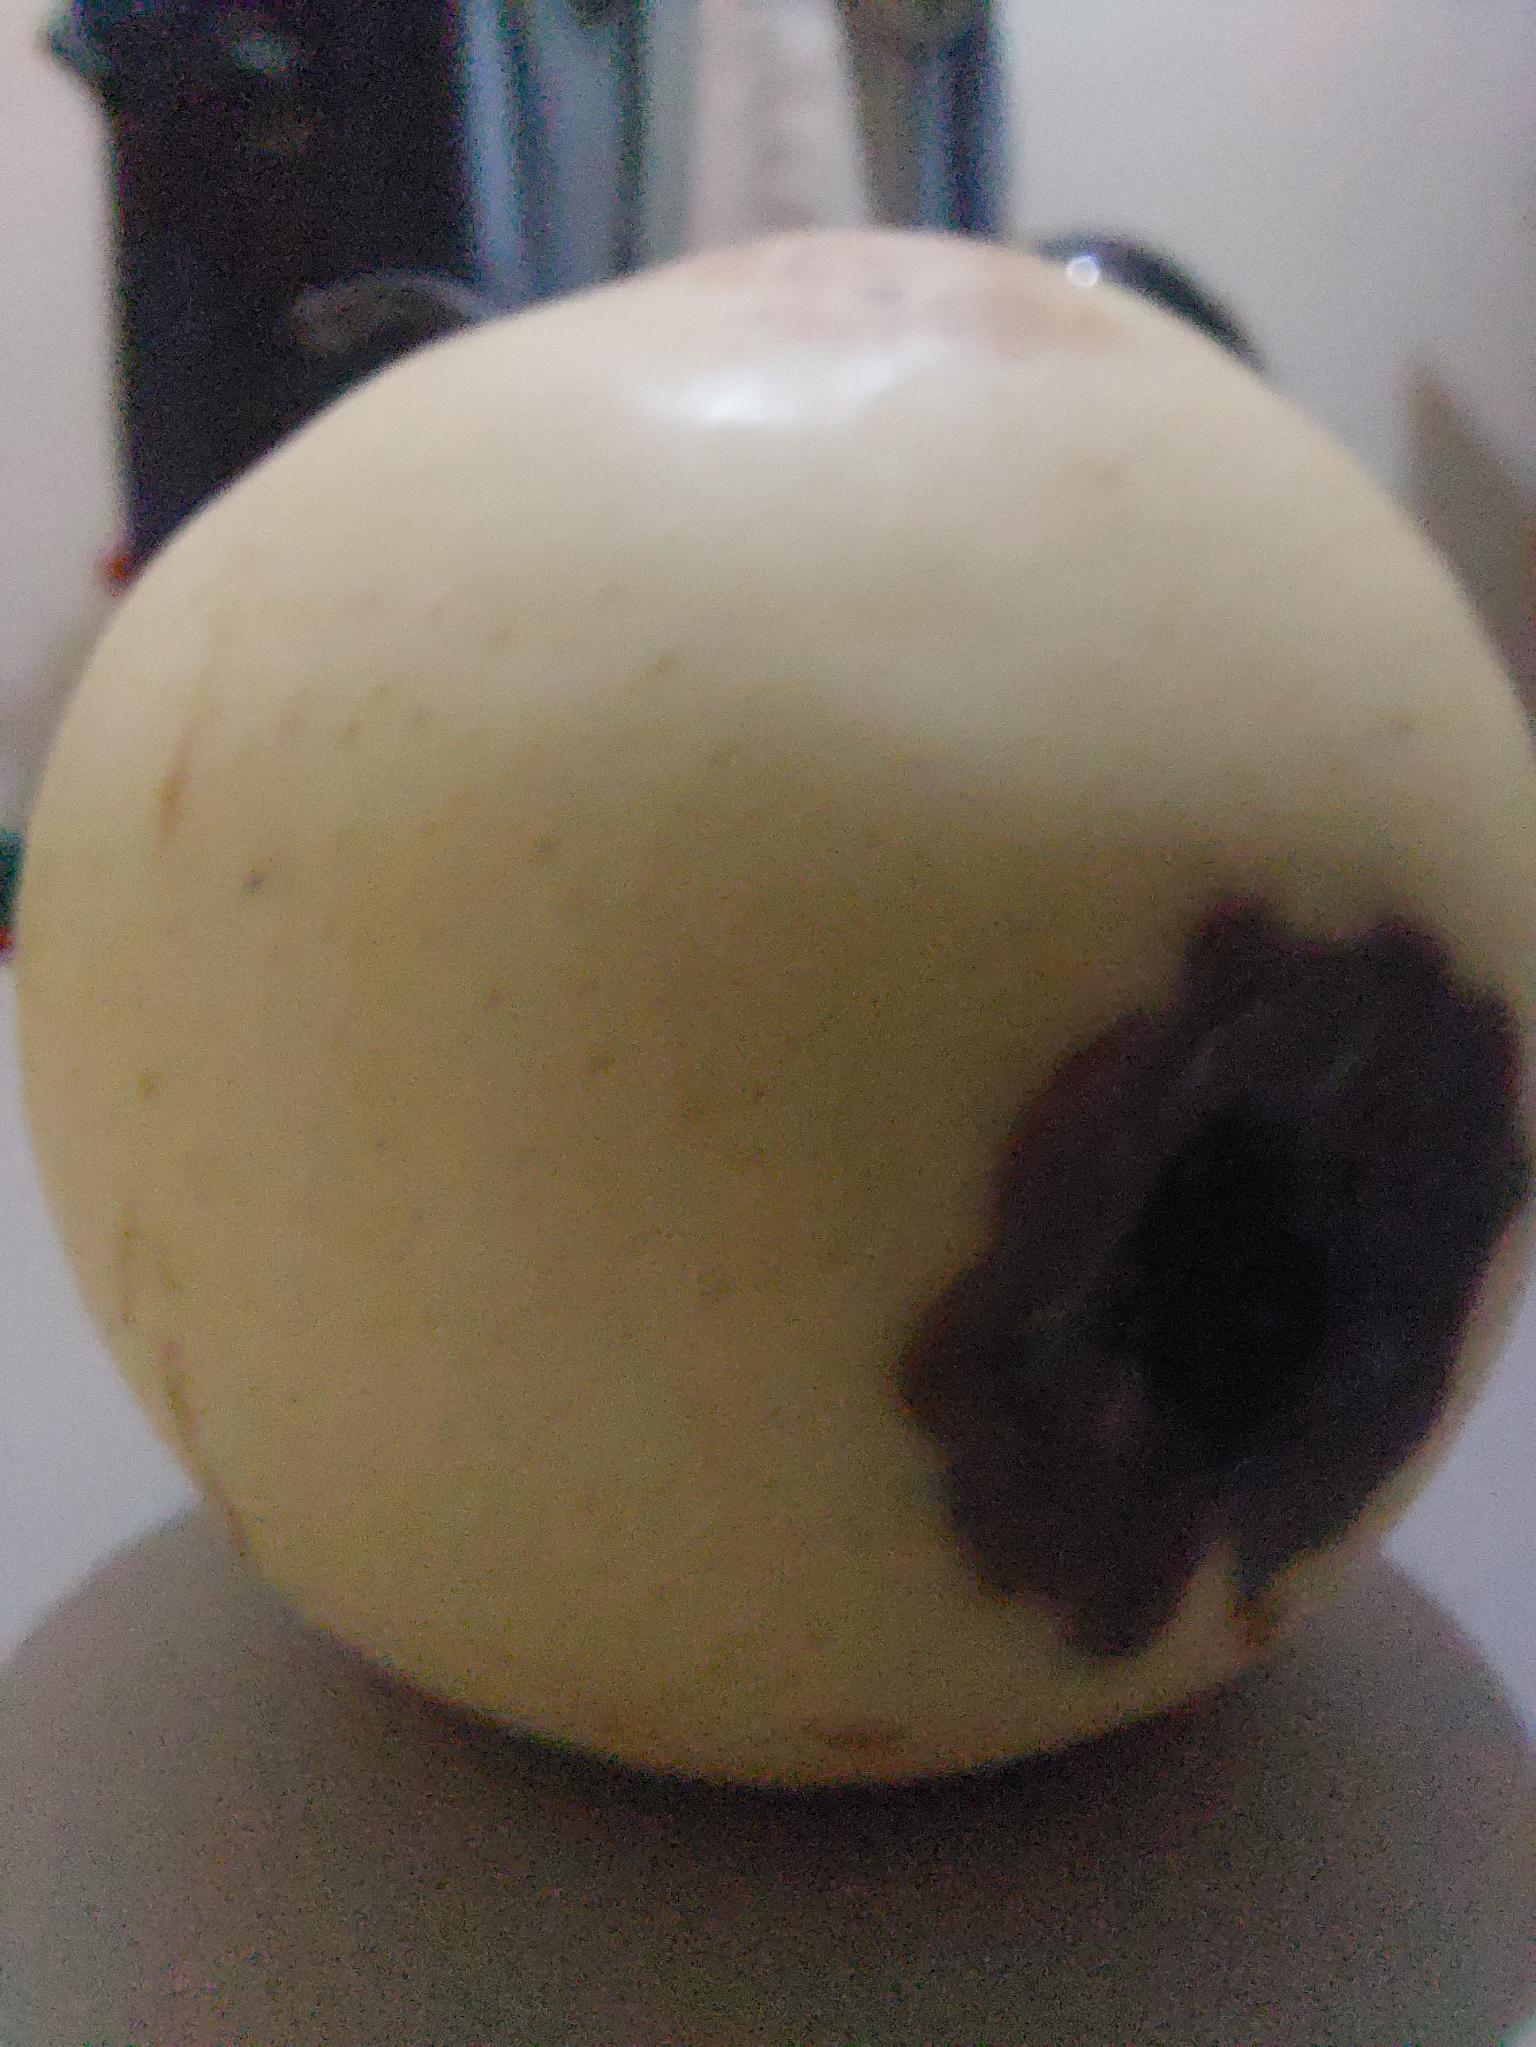Bad Pear: (35, 208, 1536, 1834)
